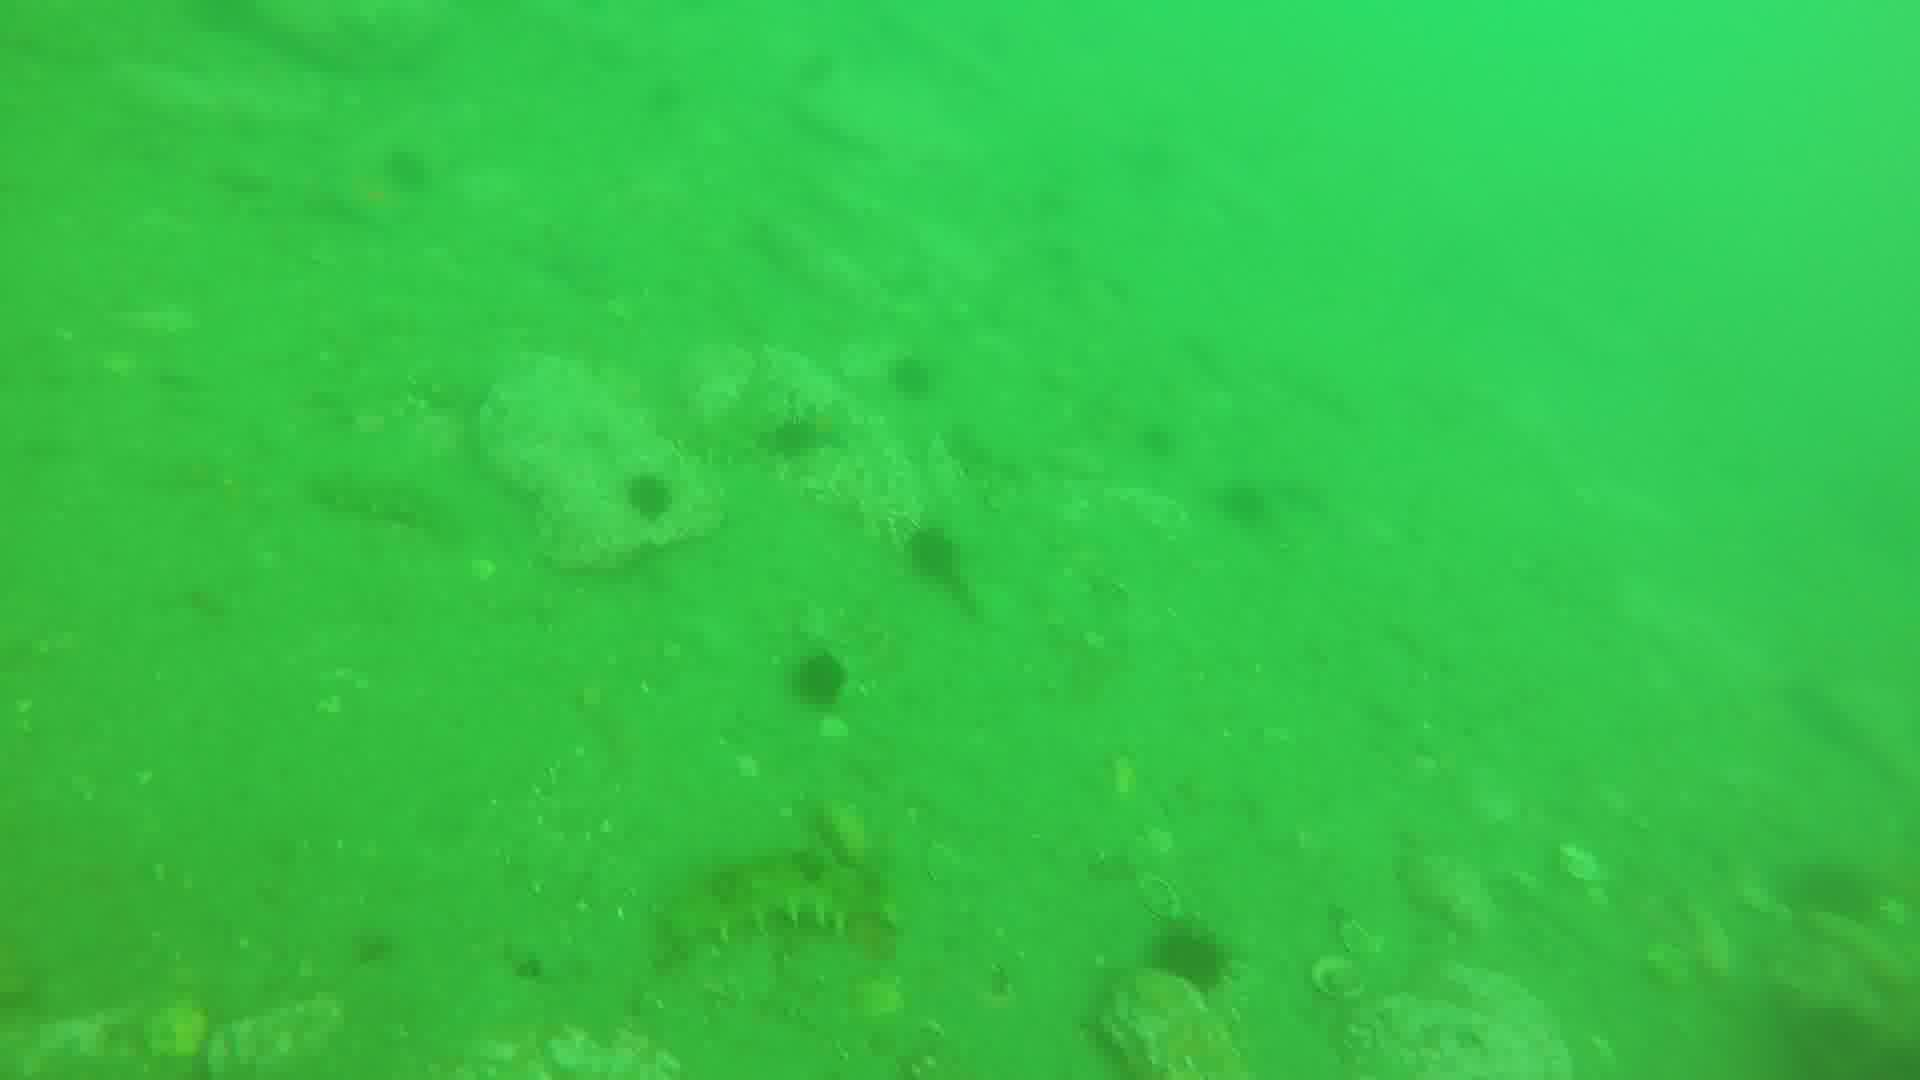echinus: (1160, 924, 1244, 1001), (793, 647, 858, 709), (909, 521, 972, 582), (622, 471, 675, 520), (895, 359, 935, 401)
holothurian: (673, 855, 895, 942), (307, 465, 454, 525), (658, 407, 781, 467)
starfish: (331, 173, 426, 231), (793, 400, 868, 458)
